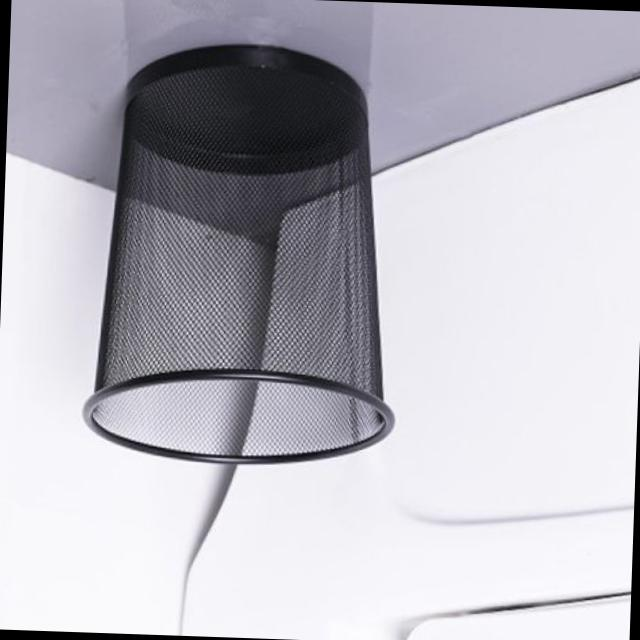dustbin: (78, 32, 413, 477)
